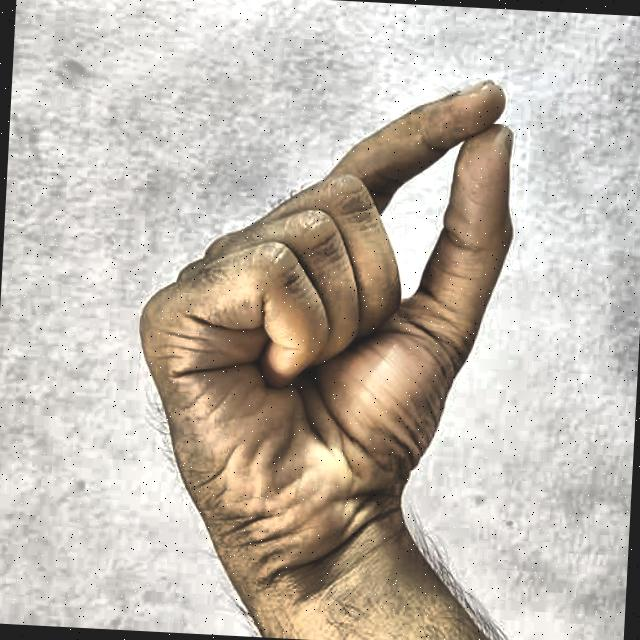Anusshar: (86, 10, 552, 631)
